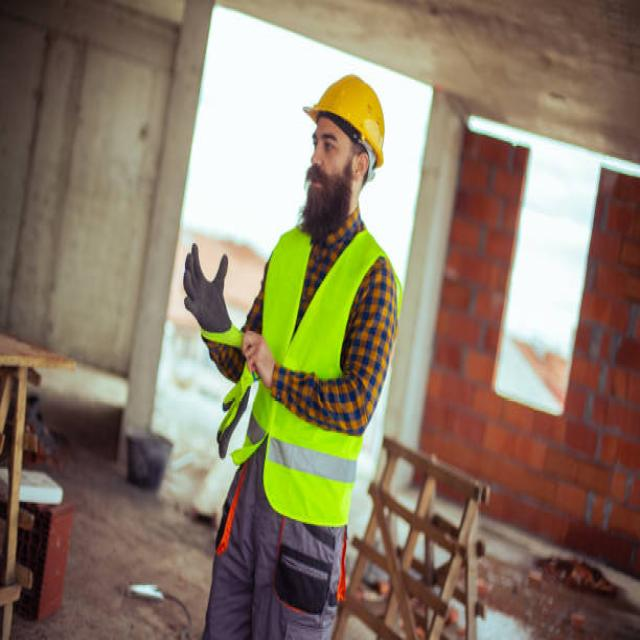Gloves: (180, 240, 233, 336)
Vest: (230, 217, 406, 526)
helmet: (302, 72, 390, 171)
person: (181, 66, 401, 640)
